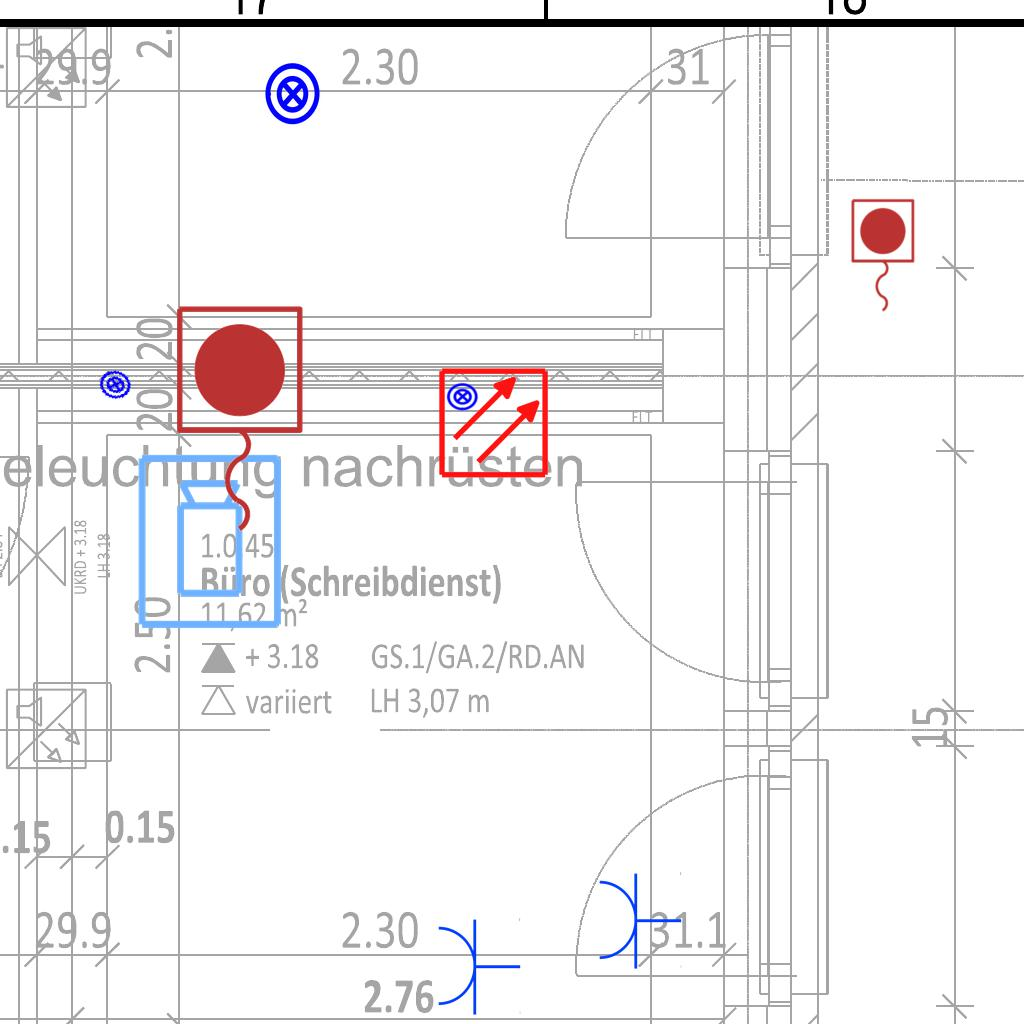KFO_Kamera_mit_Festobjektiv: (134, 451, 288, 633)
RMO_Rauchmelder_optischer: (437, 366, 550, 479)
Schukosteckdose_einfach: (595, 870, 682, 970), (434, 916, 521, 1016)
Taster_beleuchtet: (260, 61, 326, 127), (94, 363, 137, 406), (446, 380, 479, 413)
Zugtaster: (166, 298, 310, 542), (846, 195, 918, 317)
